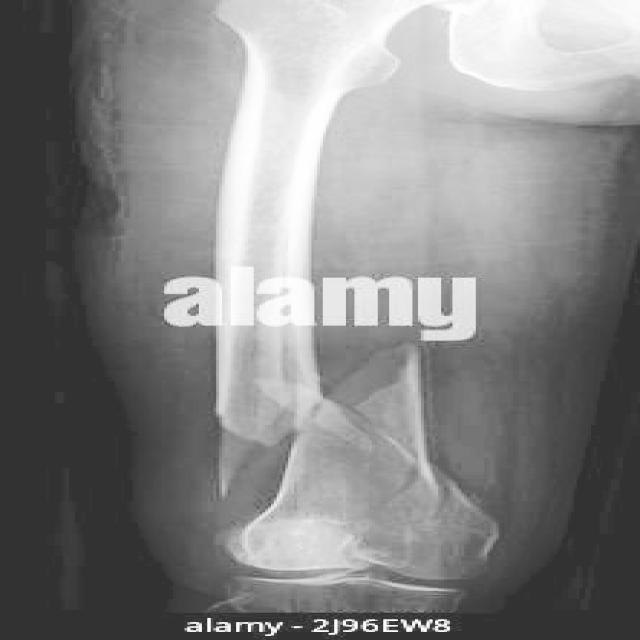Comminuted Fracture: (199, 410, 285, 497)
